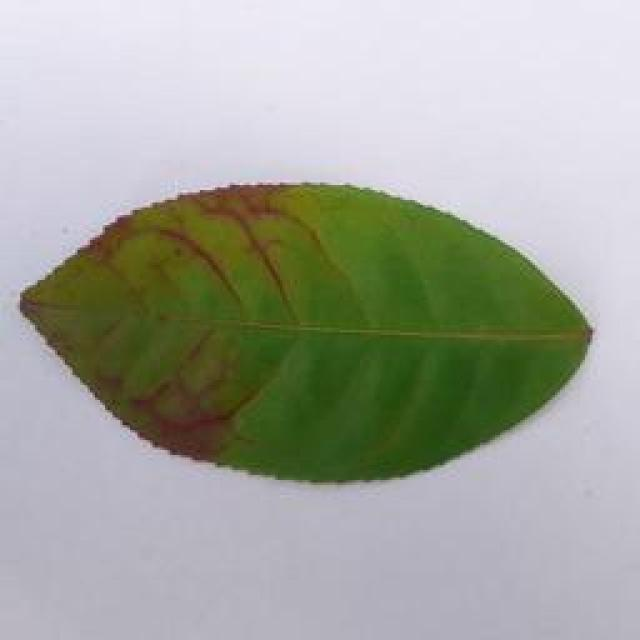Red Leaf Spot: (0, 175, 600, 485)
